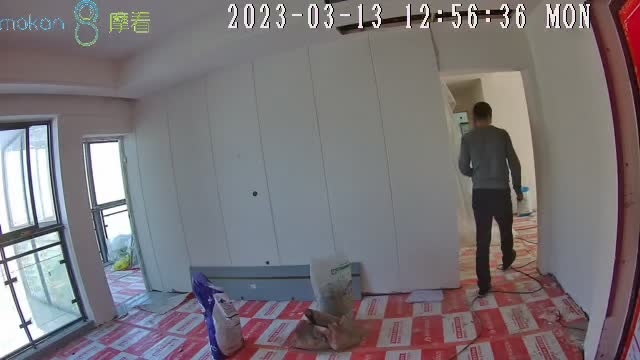people: (459, 100, 522, 297)
window: (1, 124, 85, 359)
